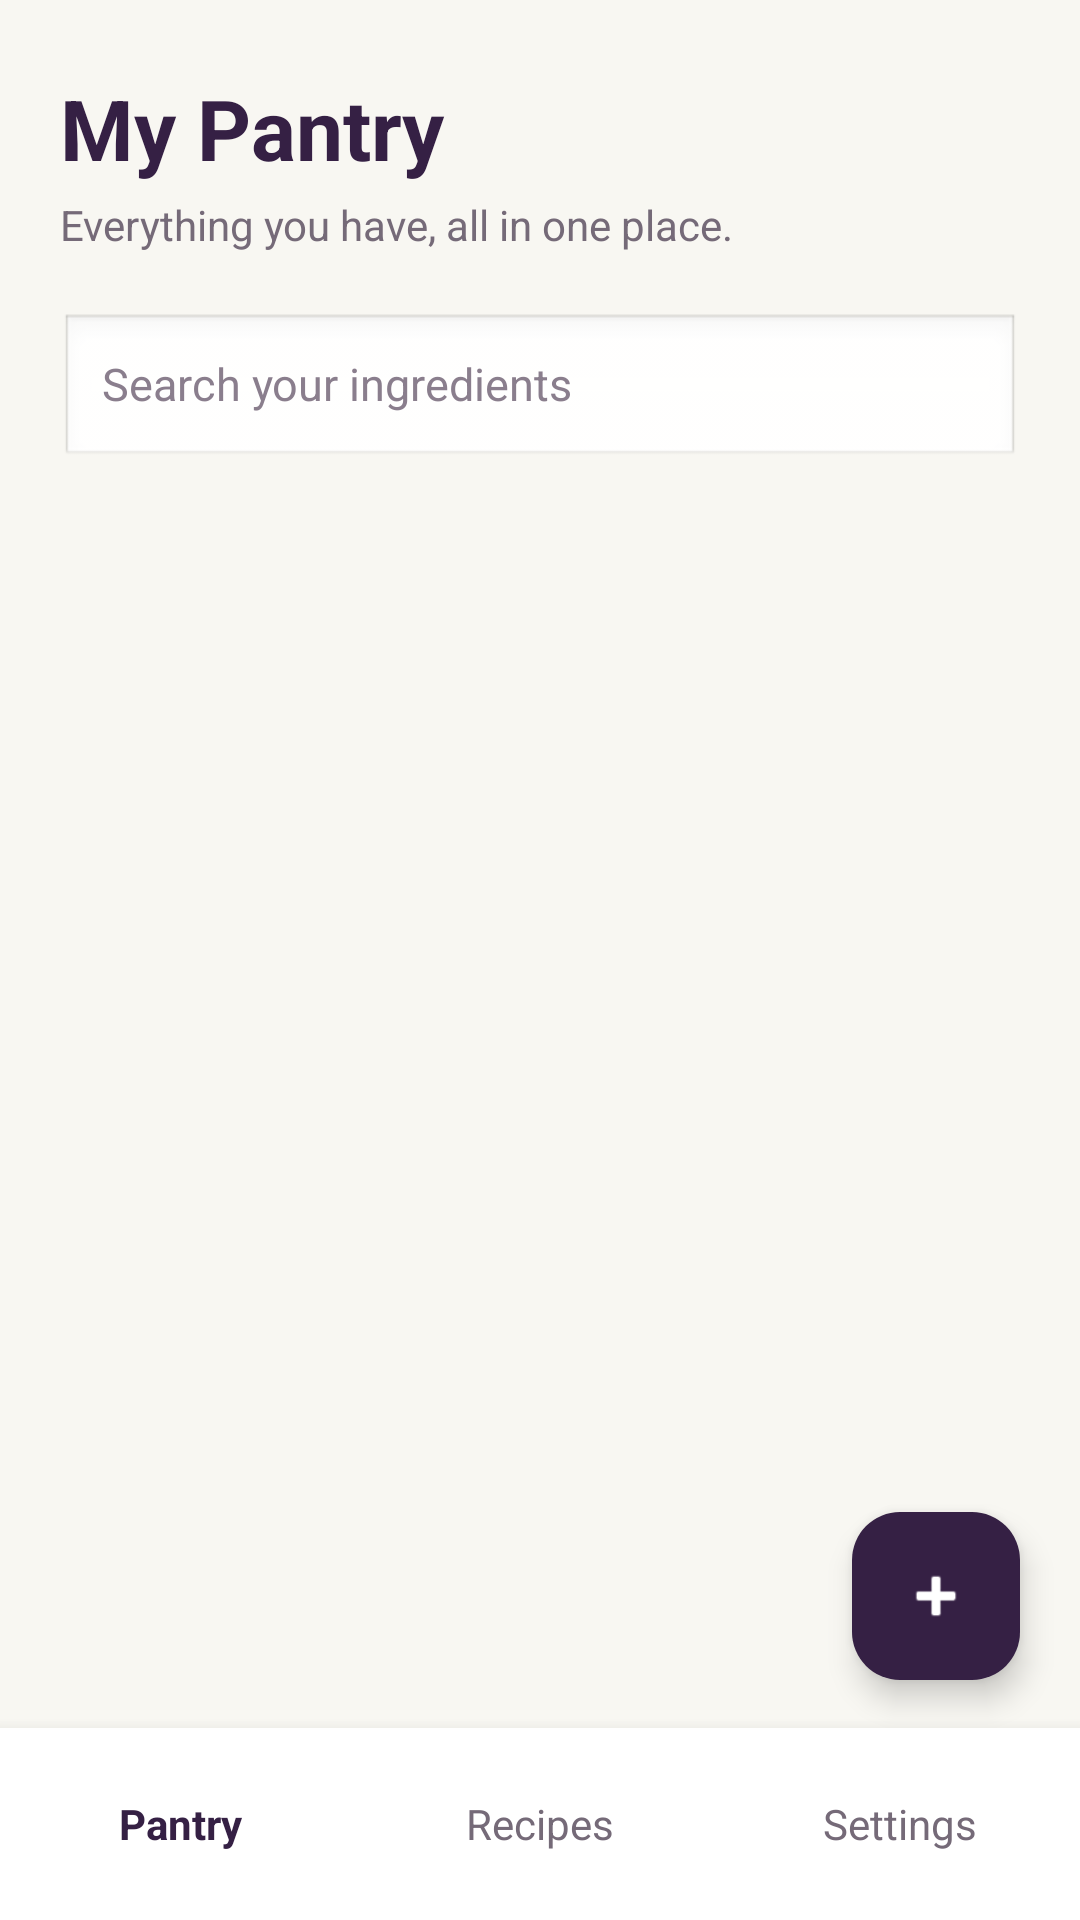

Where to tap for icons on this 1080px x 1920px app screen, as [x,y]:
Add ingredient: [936,1596]
